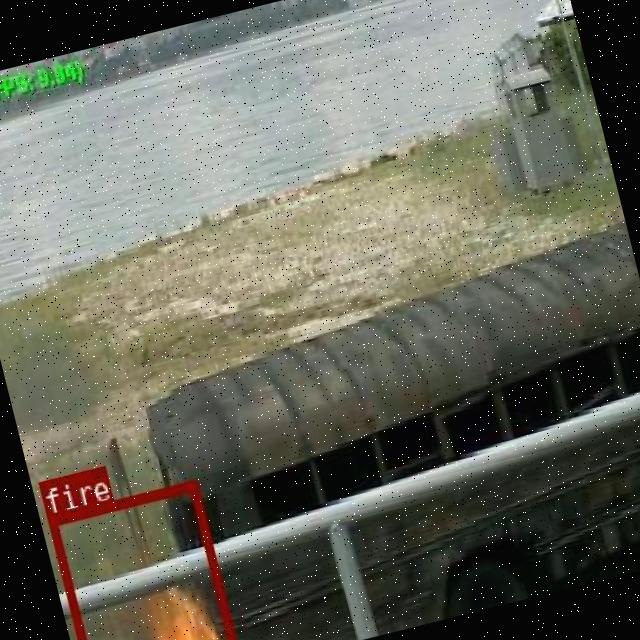fire: (45, 477, 239, 640)
